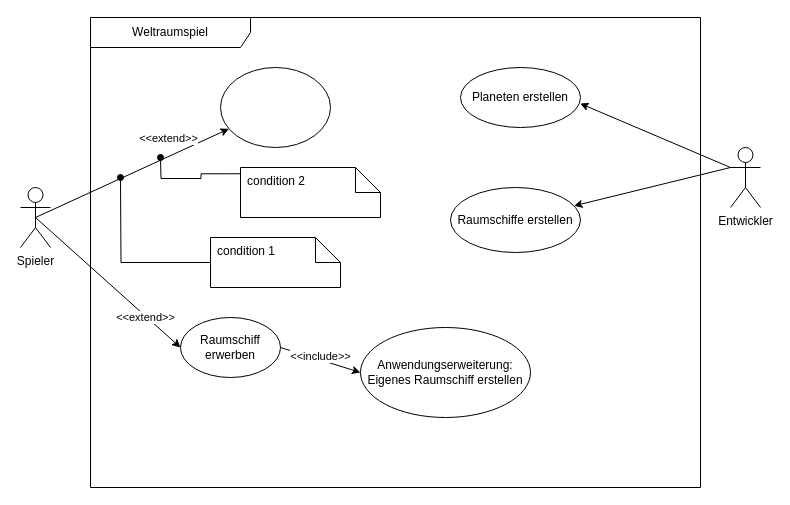
The diagram is 790 pixels wide and 505 high, and some of its shapes have lost their labels. The box of each missing label's shape, as (x1, y1, x2, y2) in pixels:
braucht ein Raumschiff: (210, 236, 340, 288)
muss sein eigenes sein: (240, 166, 380, 218)
Planet besuchen: (220, 66, 330, 148)
